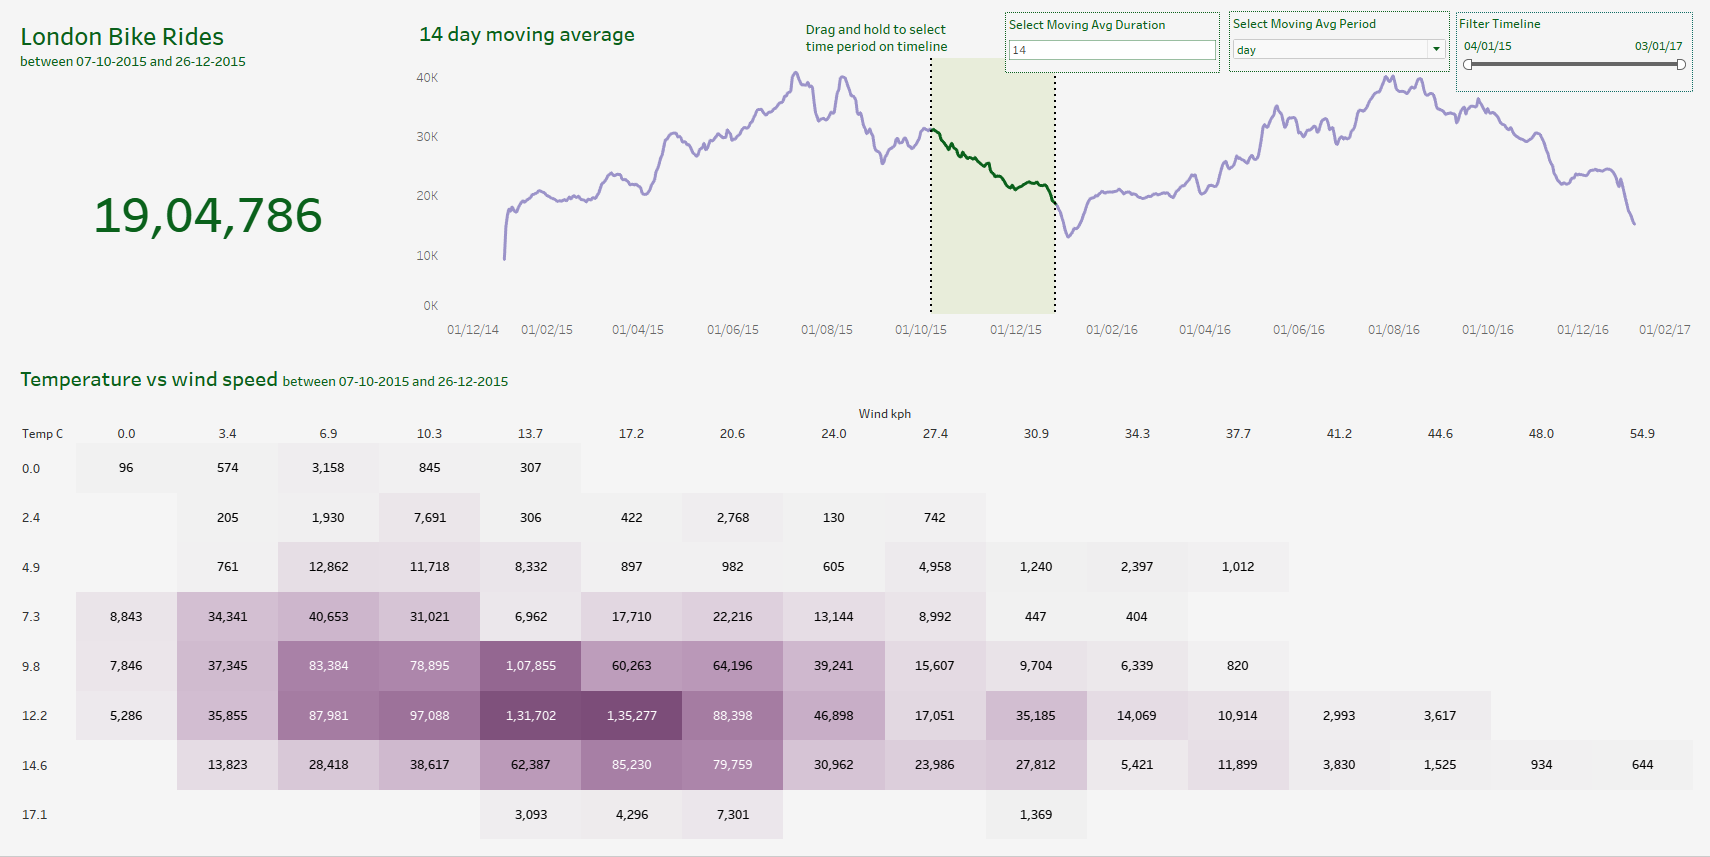

The dashboard page shown, as its layout file describes it:
{"tool":"tableau","page":{"name":"Dashboard","canvas":[1000,1000],"units":"permille","ordinal":0},"visuals":[{"type":"parameter","param":"[Parameters].[Parameter 3]","box":[716.7,9.1,134,80.7]},{"type":"worksheet","title":"TotalRides","mark":"Automatic","box":[4.7,9.4,233.3,403.2]},{"type":"worksheet","title":"MovingAverage","mark":"Automatic","rows":["Calculation1"],"cols":["Calculation_2560859404833579008"],"box":[238,9.4,757.3,403.2]},{"type":"parameter","param":"[Parameters].[Parameter 2]","box":[585.6,10.4,130.3,80.7]},{"type":"filter","title":"MovingAverage","param":"[federated.1btkpv91oruoe61fz4cnm1lloes8].[none:Calculation_2560859404833579008:q","box":[850.7,13,141.3,97.7]},{"type":"text","box":[467.8,15.6,116.4,59.9]},{"type":"worksheet","title":"Heatmap","mark":"Square","rows":["temp real C (bin)"],"cols":["Wind Speed Kph (bin)"],"box":[4.7,412.6,990.6,578]}]}

Visuals, with their boxes on the dashboard's canvas, which has no fixed pixel size, in thousandths of its width and height (x1, y1, x2, y2). These are canvas units, not pixel positions in the 1710x857 screenshot, which may show the page scaled, cropped or inside an application window:
parameter: detection(717, 9, 851, 90)
"TotalRides" worksheet: detection(5, 9, 238, 413)
"MovingAverage" worksheet: detection(238, 9, 995, 413)
parameter: detection(586, 10, 716, 91)
"MovingAverage" filter: detection(851, 13, 992, 111)
text: detection(468, 16, 584, 76)
"Heatmap" worksheet (Square marks): detection(5, 413, 995, 991)
